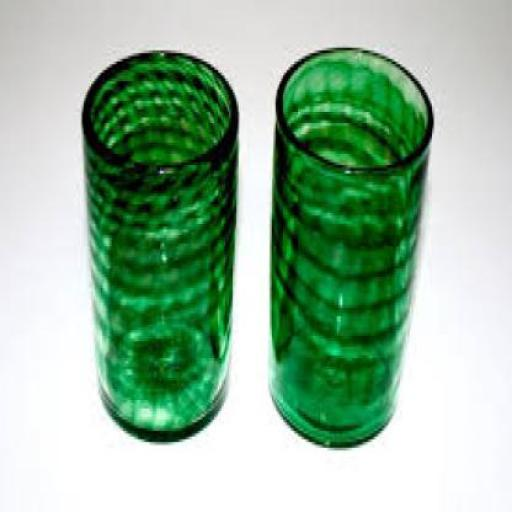glass: (270, 45, 432, 442), (82, 45, 237, 442)
